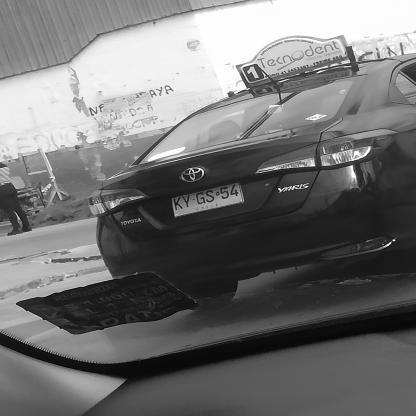Patente: (170, 182, 248, 223)
